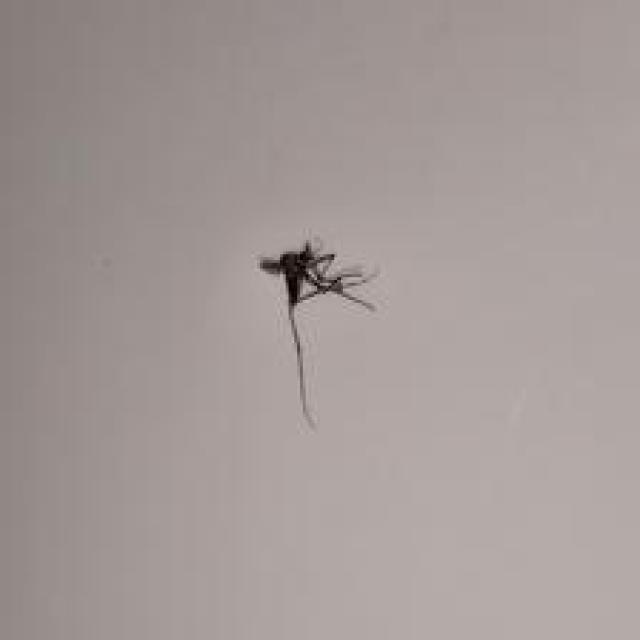Aedes albopictus: (255, 236, 378, 430)
